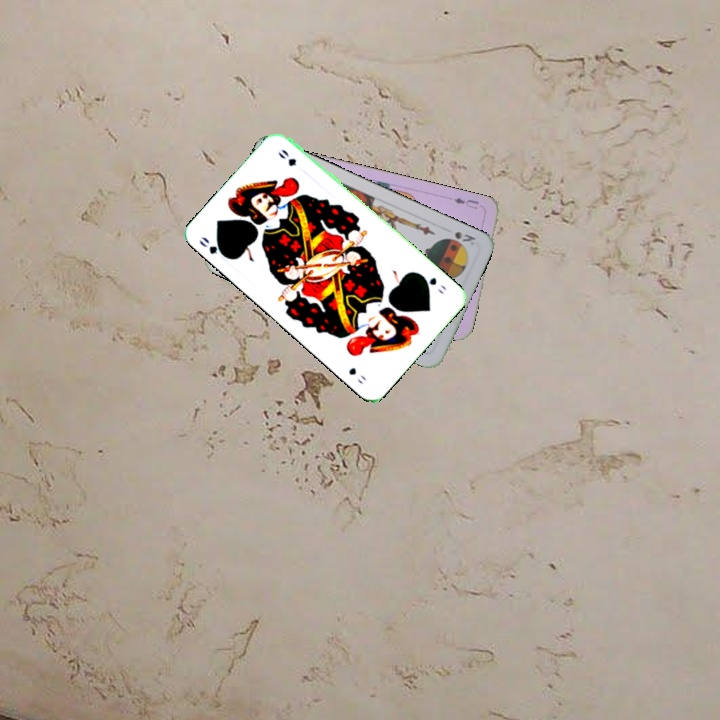EU: (450, 193, 481, 212)
GO: (195, 232, 231, 261), (416, 270, 449, 297)
SK: (451, 227, 478, 248)
